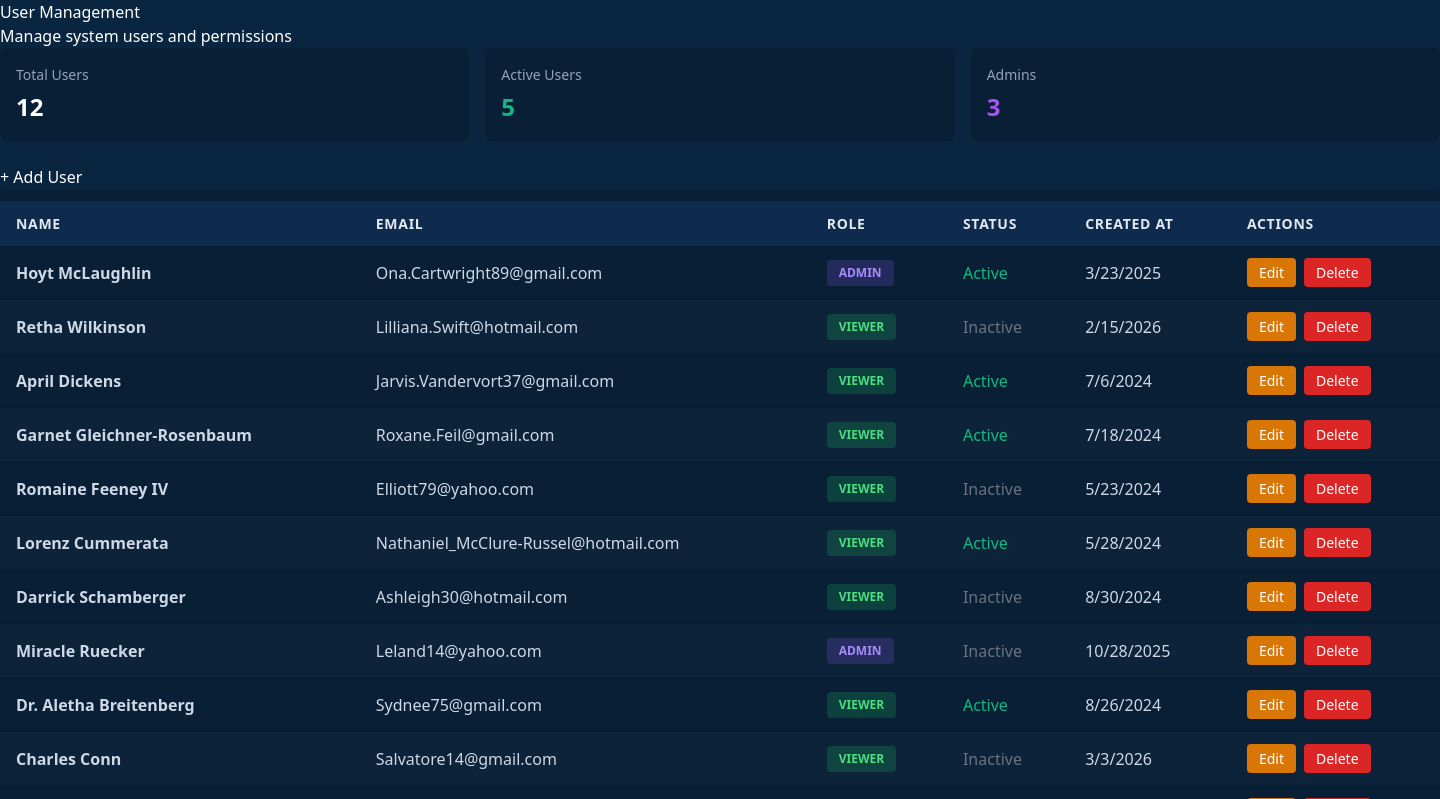
Scenario: UserManagement › should add a new user
The width and height of the screenshot is (1440, 799).
Click the button "+ Add User": (41, 177) [0,165,82,189]
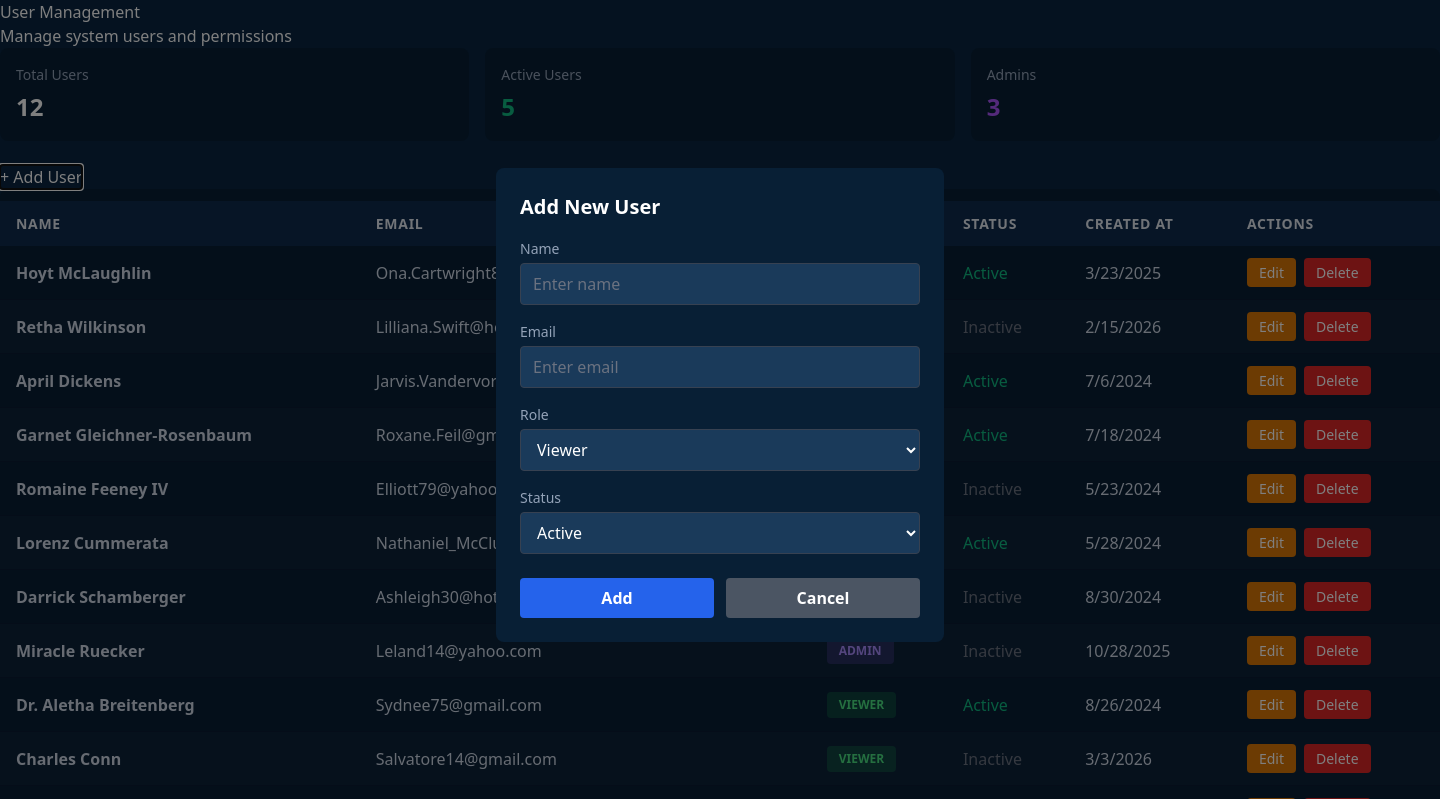
Expected: the heading "Add New User" is shown, [520,193,660,220]
In the field with placeholder "Enter name": (720, 284) [520,263,920,305], type "New User"
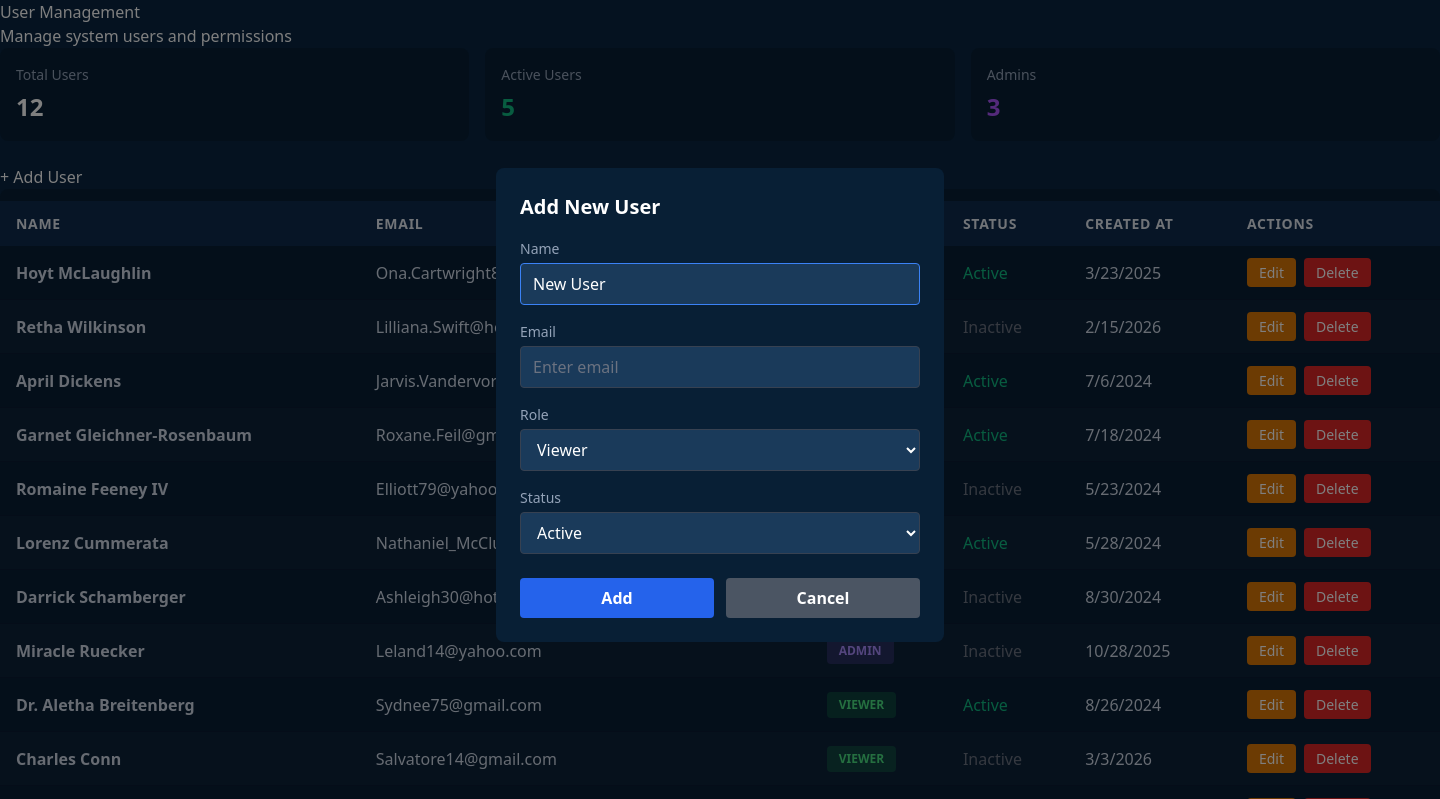
In the field with placeholder "Enter email": (720, 367) [520,346,920,388], type "newuser@test.com"
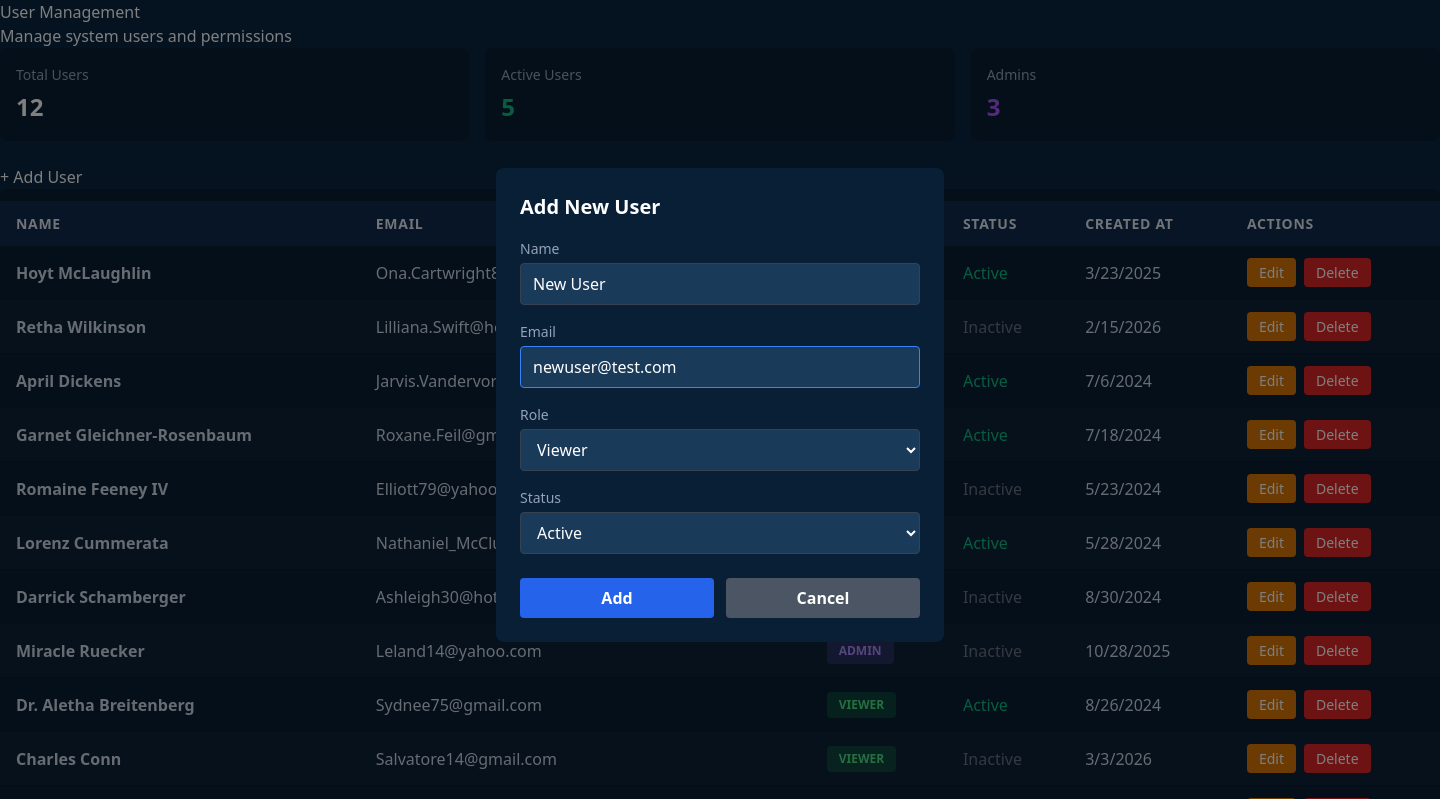
Click the button "Add": (617, 598) [520,578,714,618]
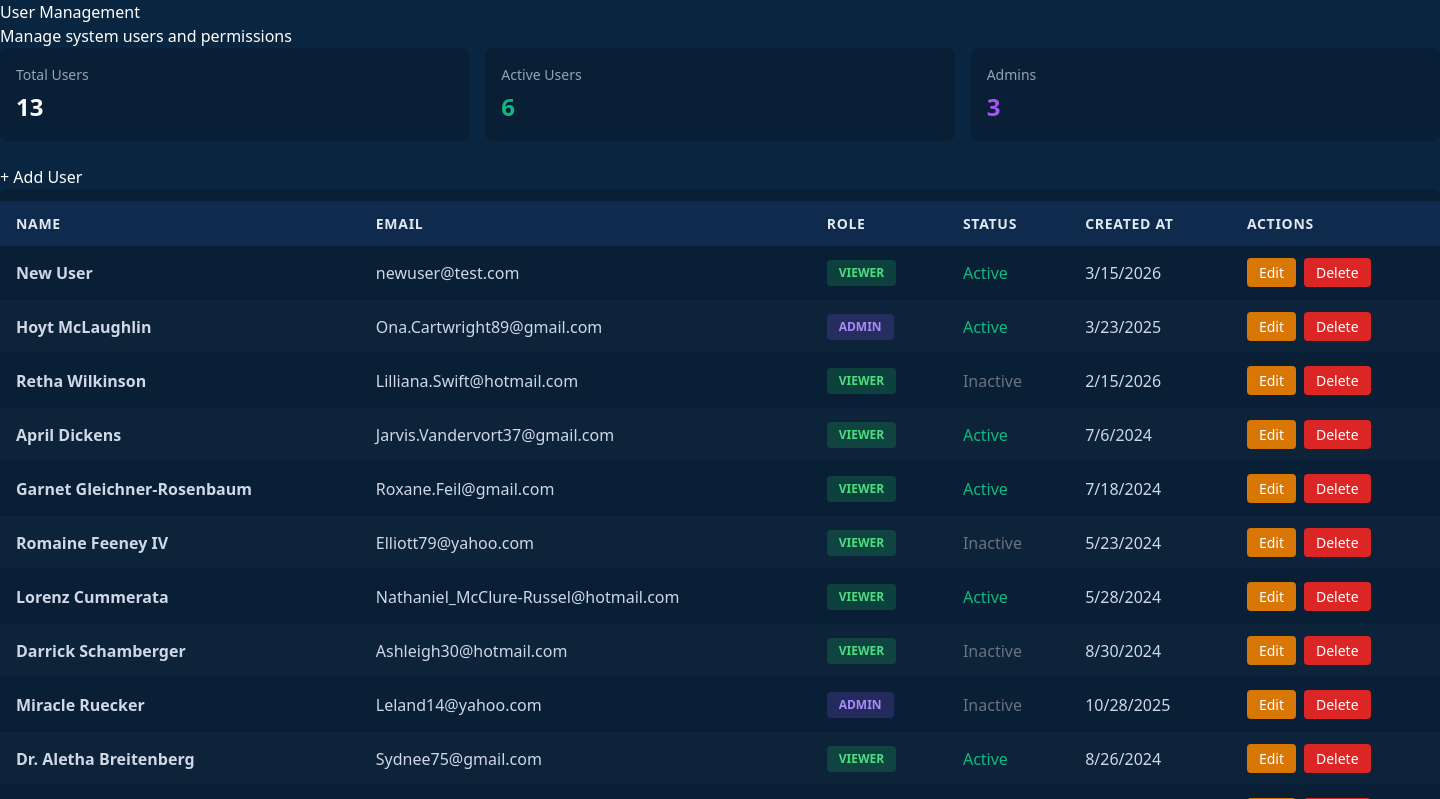
Expected: the text "New User" is shown, [0,246,360,300]
Expected: the text "newuser@test.com" is shown, [360,246,811,300]
